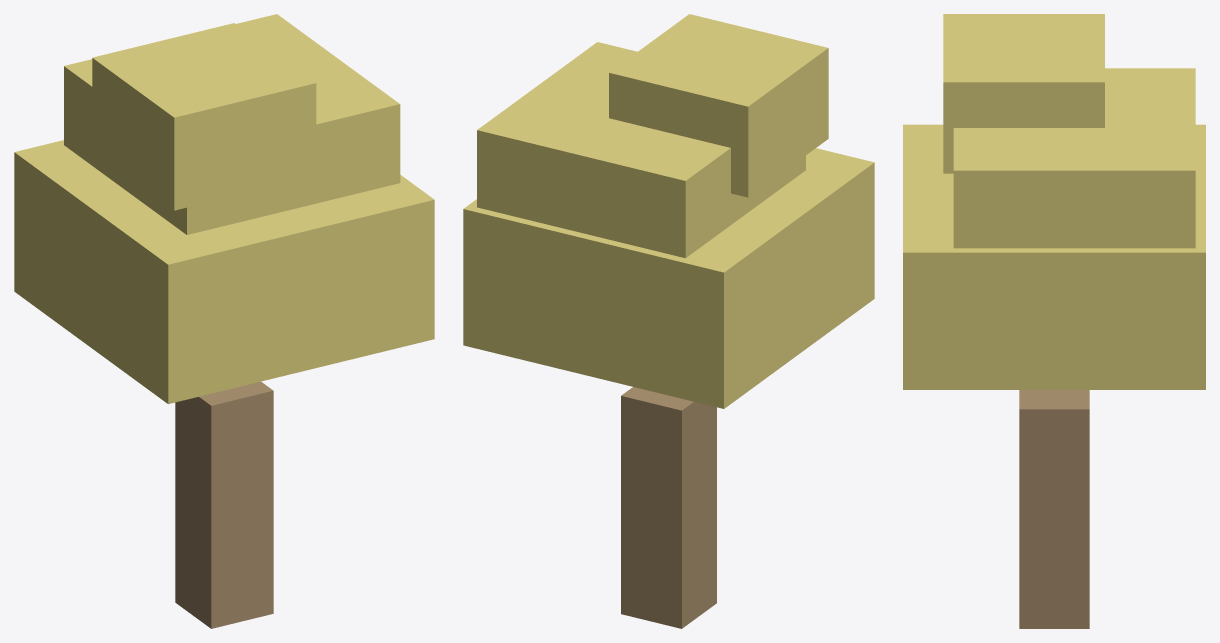
The model's file is propvar_autumn_yellow.glb.
The picture shows the model from 3 angles, left to right: view 1: azimuth 30°, elevation 25°; view 2: azimuth 150°, elevation 25°; view 3: azimuth 270°, elevation 25°; orthographic projection. The views are drawn at different scales.
Visible parts, largest first — view 1: PropVar_Autumn_Yellow; view 2: PropVar_Autumn_Yellow; view 3: PropVar_Autumn_Yellow.
Part boxes in pixels (bbox=[...]): PropVar_Autumn_Yellow: bbox=[14, 14, 434, 628]; PropVar_Autumn_Yellow: bbox=[463, 14, 874, 628]; PropVar_Autumn_Yellow: bbox=[903, 14, 1205, 628].
Bounding box in the file's own units: 3 × 6 × 3.
